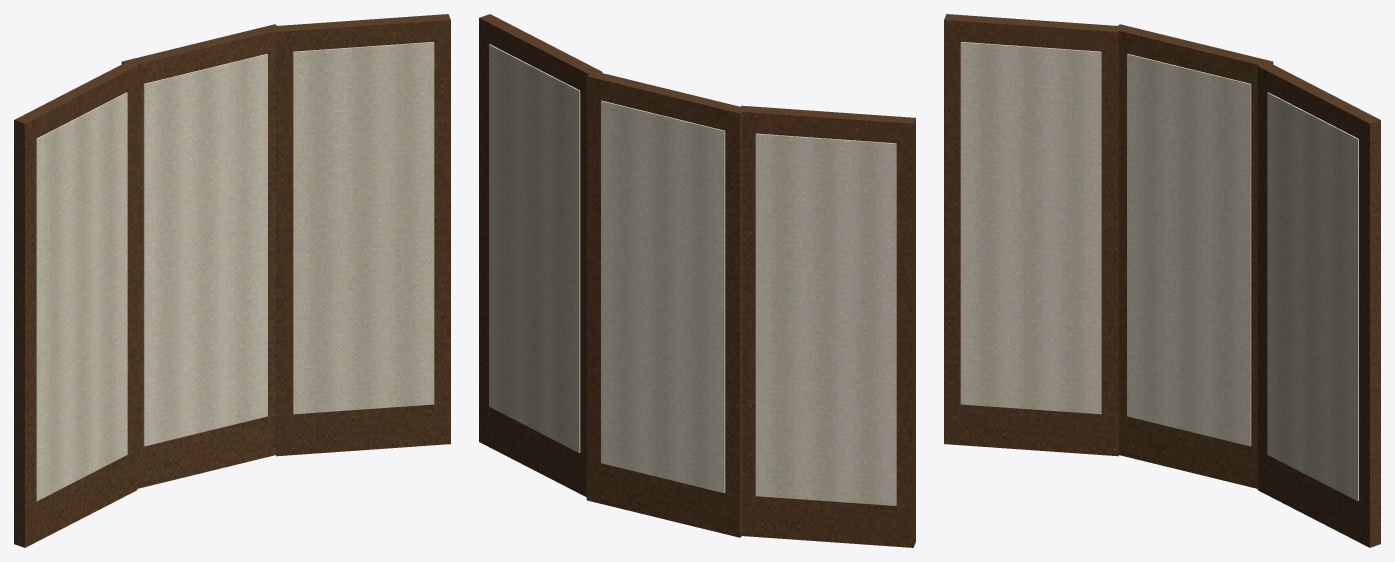
Rendered from biombo_de_madeira.glb.
3 views of the same model, side by side, from view 1: azimuth 30°, elevation 25°; view 2: azimuth 150°, elevation 25°; view 3: azimuth 330°, elevation 25° (orthographic).
Visible parts, largest first — view 1: biombo_de_madeira; view 2: biombo_de_madeira; view 3: biombo_de_madeira.
Part boxes in pixels (left/top/right/bottom): biombo_de_madeira: left=14, top=14, right=450, bottom=547; biombo_de_madeira: left=479, top=14, right=915, bottom=547; biombo_de_madeira: left=944, top=14, right=1380, bottom=547.
Bounding box in the file's own units: 1.76 × 1.64 × 0.2826.
1 material, 1 textured.
